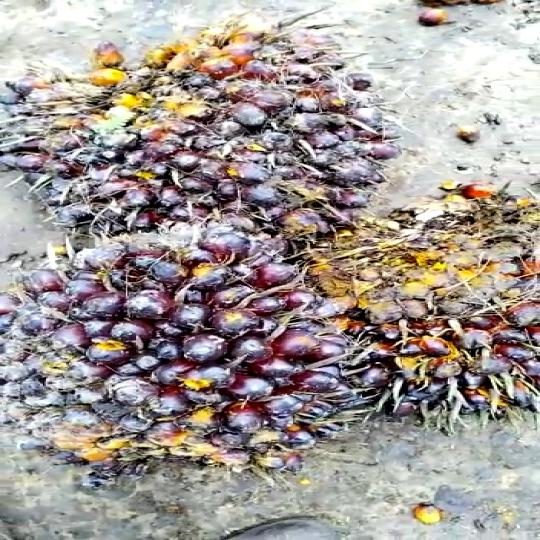kurang masak: (0, 214, 368, 488), (19, 21, 371, 266), (297, 184, 540, 424)
